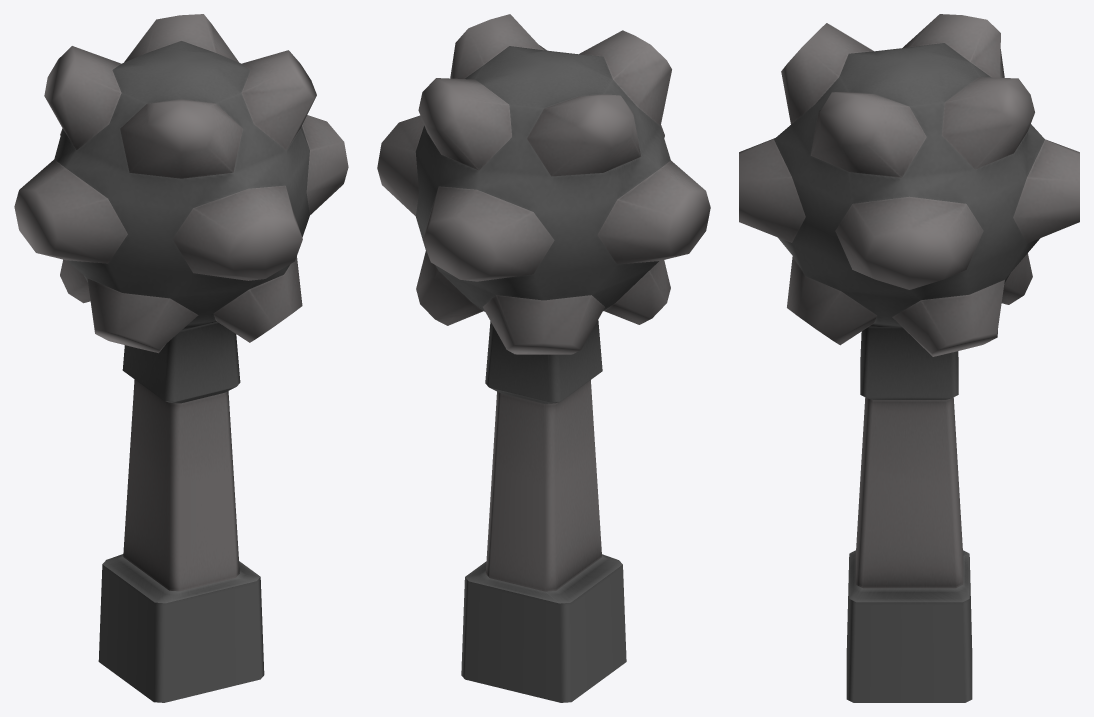
The model's file is decoMace.fbx.
3 renders of one model, left to right at view 1: azimuth 30°, elevation 25°; view 2: azimuth 150°, elevation 25°; view 3: azimuth 270°, elevation 25°, orthographic.
Parts seen in each view (by area): view 1: decoMace; view 2: decoMace; view 3: decoMace.
Part boxes in pixels (bbox=[...]): decoMace: bbox=[14, 14, 348, 702]; decoMace: bbox=[377, 14, 710, 702]; decoMace: bbox=[739, 14, 1079, 702].
Size of the model in its own units: 1.92 by 3.86 by 1.92.
